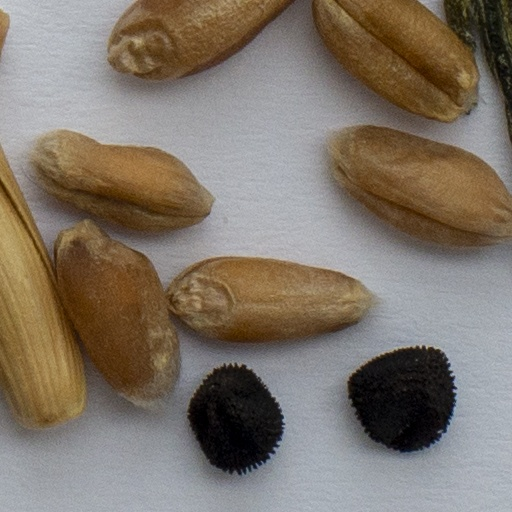Peel-poly: (0, 147, 84, 427), (443, 0, 511, 147)
